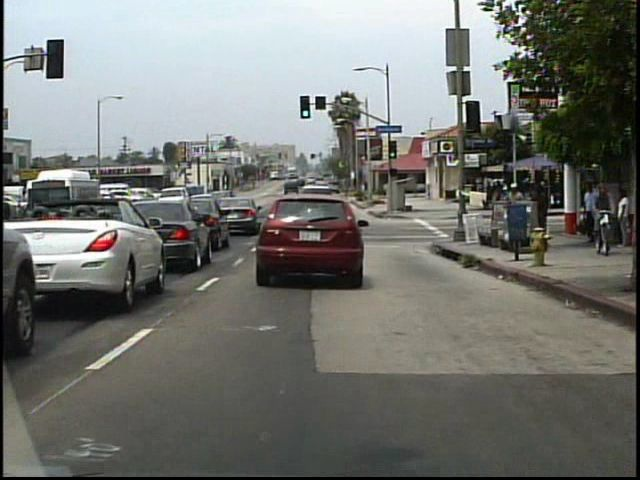person: (533, 176, 553, 242), (506, 181, 528, 238), (593, 182, 614, 240), (615, 190, 630, 246), (584, 182, 595, 237)
